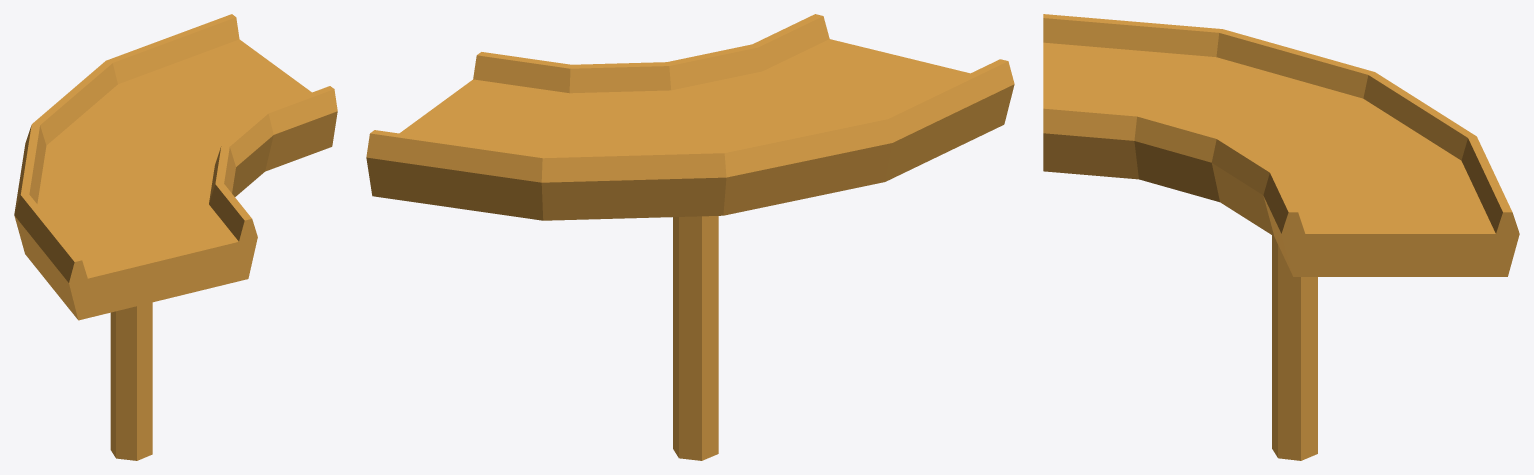
Rendered from scifi-belt-moving-curve.glb.
3 renders of one model, left to right at view 1: azimuth 30°, elevation 25°; view 2: azimuth 150°, elevation 25°; view 3: azimuth 270°, elevation 25°, orthographic. The views are drawn at different scales.
Visible parts, largest first — view 1: belt-moving-curve; view 2: belt-moving-curve; view 3: belt-moving-curve.
Boxes of the visible parts, box(x1,y1,x2,y2) form: belt-moving-curve: box(14, 14, 337, 460); belt-moving-curve: box(366, 14, 1014, 460); belt-moving-curve: box(1043, 14, 1519, 460).
Size of the model in its own units: 2 by 1.6 by 2.
